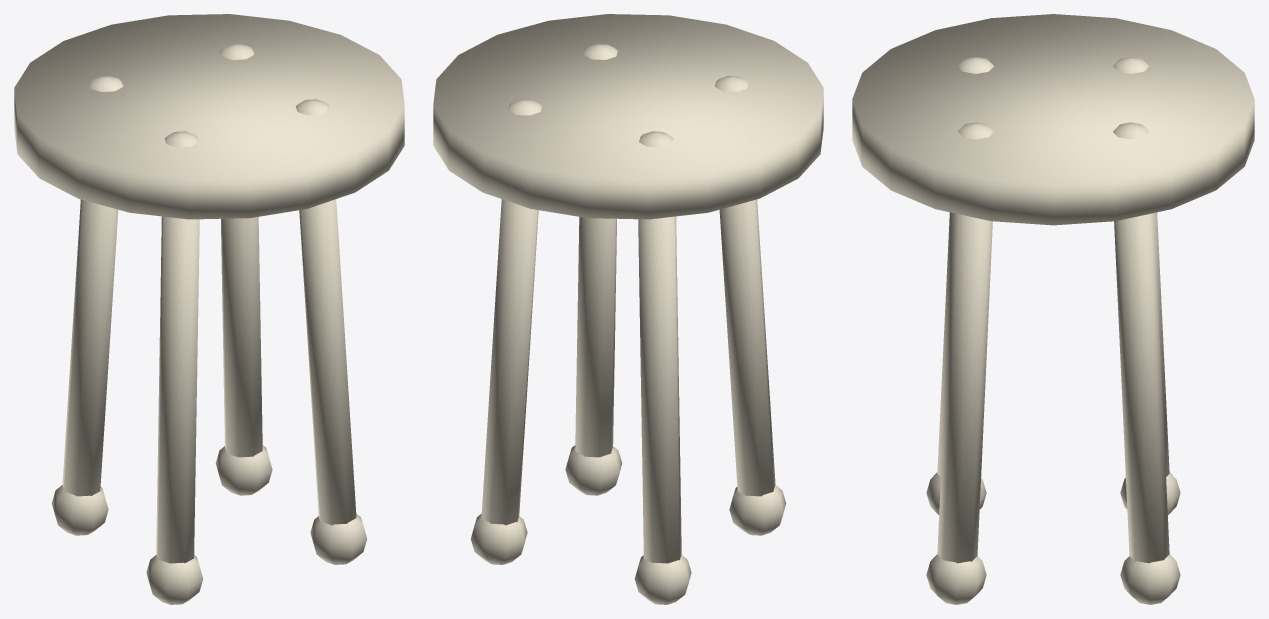
Rendered from side_table_bone_stool.glb.
The picture shows the model from 3 angles, left to right: view 1: azimuth 30°, elevation 25°; view 2: azimuth 150°, elevation 25°; view 3: azimuth 270°, elevation 25°; orthographic projection. The views are drawn at different scales.
Visible parts, largest first — view 1: GD_side_table_bone_stool__m0; view 2: GD_side_table_bone_stool__m0; view 3: GD_side_table_bone_stool__m0.
Boxes of the visible parts, x1,y1,x2,y2 form: GD_side_table_bone_stool__m0: (14, 14, 404, 604); GD_side_table_bone_stool__m0: (433, 14, 823, 604); GD_side_table_bone_stool__m0: (852, 14, 1254, 604).
Bounding box in the file's own units: 0.44 × 0.566 × 0.44.
